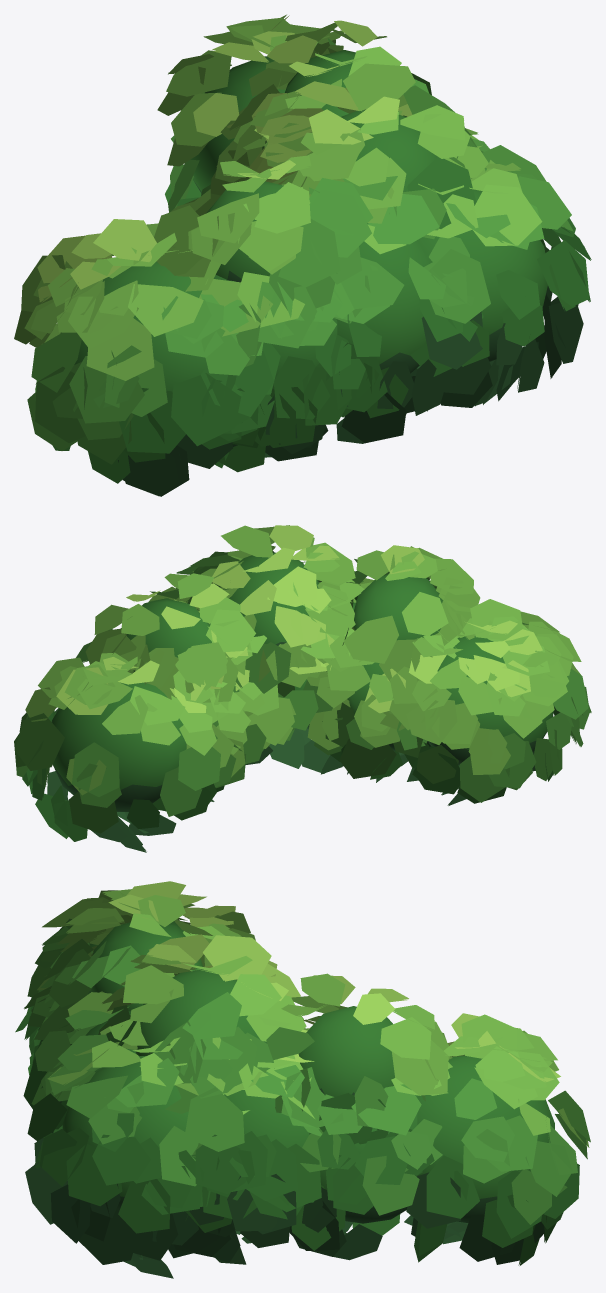
Rendered from HedgeCorner.glb.
The picture shows the model from 3 angles, top to bottom: view 1: azimuth 30°, elevation 25°; view 2: azimuth 150°, elevation 25°; view 3: azimuth 270°, elevation 25°; orthographic projection. The views are drawn at different scales.
Visible parts, largest first — view 1: Body; view 2: Body; view 3: Body.
Part boxes in pixels (x1,y1,x2,y2): Body: (14,14,591,496); Body: (14,525,591,852); Body: (15,881,590,1278).
Size of the model in its own units: 6.2 by 3.36 by 6.13.
1 material, 1 textured.
